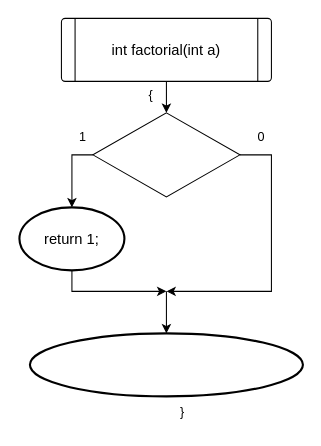
This 321x446 diagram has some shape labels left out. The shapes that lost their labels are listed below. From the top down, each one's box as (x1, y1, x2, y2) in pixels, then its label:
(92, 112, 240, 197): if (a == 1)
(28, 332, 303, 397): return a * factorial(a - 1);
